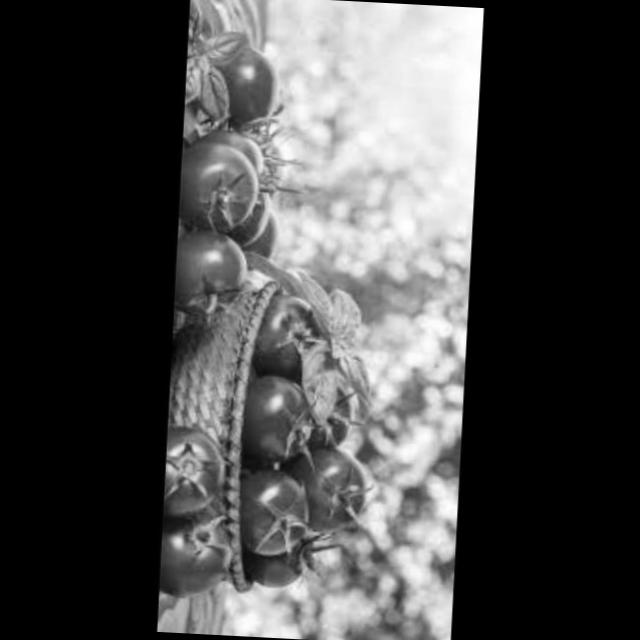tomato: (239, 366, 327, 478), (178, 133, 264, 235), (238, 466, 319, 558), (160, 512, 236, 608), (175, 228, 252, 320), (164, 416, 228, 523), (257, 290, 333, 380), (206, 41, 282, 126), (304, 452, 375, 536), (251, 526, 320, 598), (193, 116, 270, 178), (230, 192, 288, 262), (314, 384, 368, 456)
